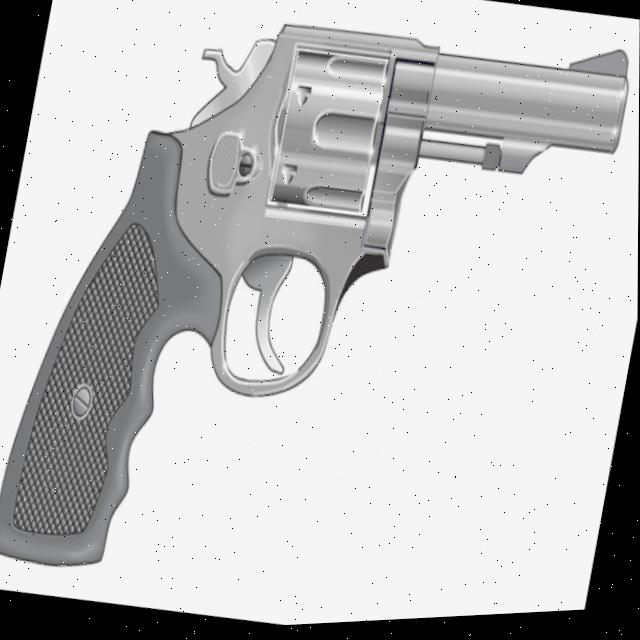pistol: (0, 0, 637, 640)
